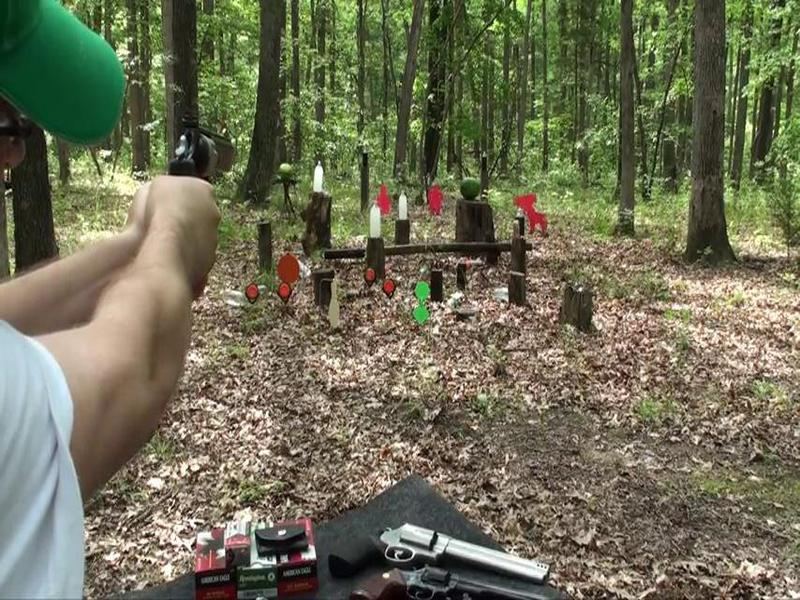Revolver: (158, 117, 247, 206)
